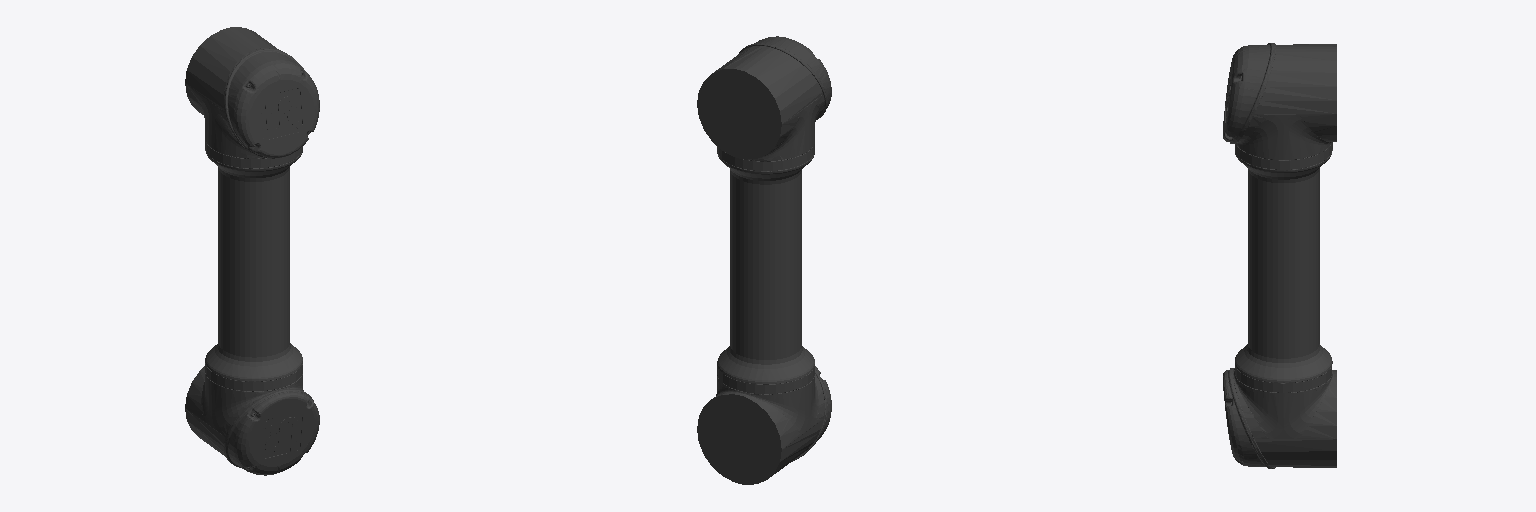
File: armL link2.002.obj
The picture shows the model from 3 angles: view 1: azimuth 30°, elevation 25°; view 2: azimuth 150°, elevation 25°; view 3: azimuth 270°, elevation 25°; orthographic projection.
Visible parts, largest first — view 1: visual_0_armL_link2_armL_link2.002; view 2: visual_0_armL_link2_armL_link2.002; view 3: visual_0_armL_link2_armL_link2.002.
Part boxes in pixels (left/top/right/bottom): visual_0_armL_link2_armL_link2.002: left=185, top=27, right=319, bottom=475; visual_0_armL_link2_armL_link2.002: left=697, top=36, right=831, bottom=484; visual_0_armL_link2_armL_link2.002: left=1223, top=43, right=1336, bottom=468.
Size of the model in its own units: 0.0601 by 0.2726 by 0.0677.